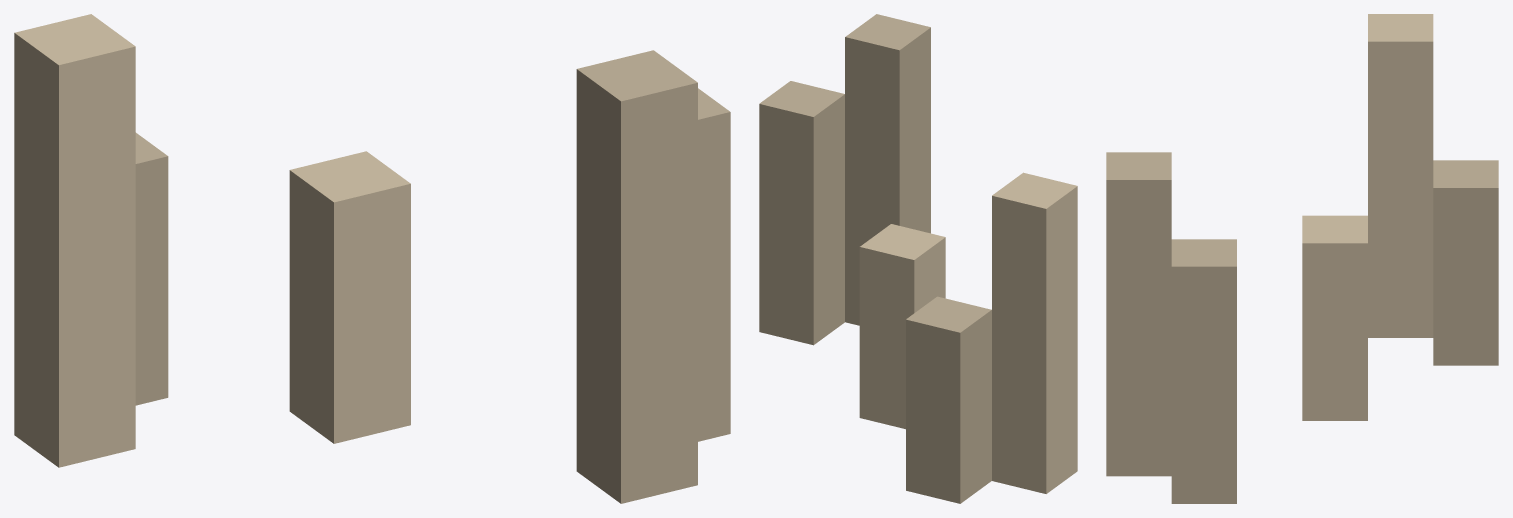
Rendered from cebolla_silvestre_01.glb.
The picture shows the model from 3 angles, left to right: view 1: azimuth 30°, elevation 25°; view 2: azimuth 150°, elevation 25°; view 3: azimuth 270°, elevation 25°; orthographic projection. The views are drawn at different scales.
Parts seen in each view (by area): view 1: cebolla_silvestre_01; view 2: cebolla_silvestre_01; view 3: cebolla_silvestre_01.
Part boxes in pixels (bbox=[...]): cebolla_silvestre_01: bbox=[14, 14, 730, 503]; cebolla_silvestre_01: bbox=[759, 14, 1077, 503]; cebolla_silvestre_01: bbox=[1106, 14, 1498, 503].
Bounding box in the file's own units: 0.7 × 0.5 × 0.6.
